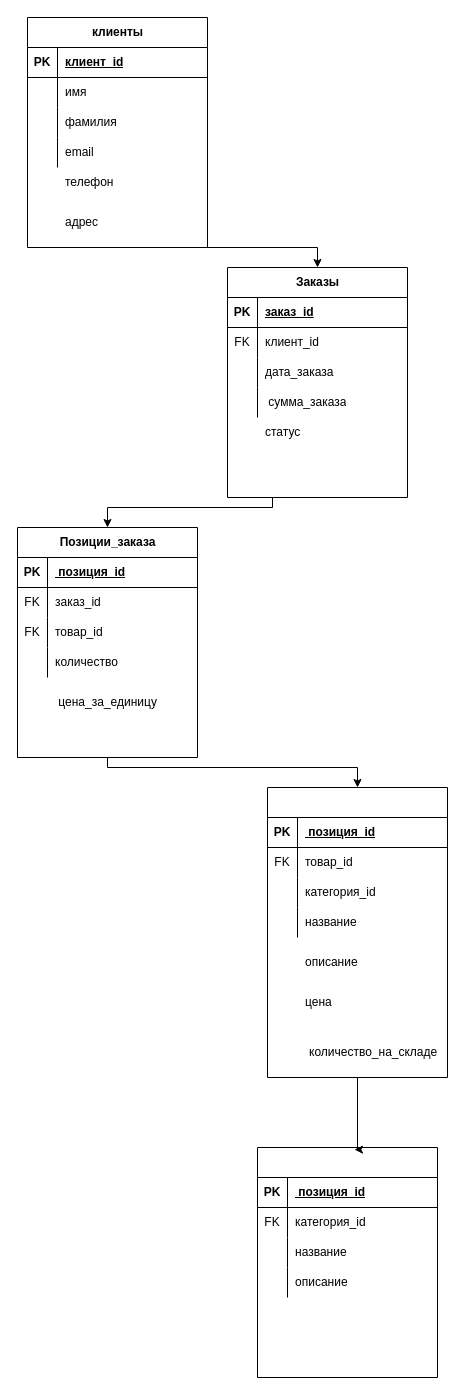
Image size: 469x1395. Some labels were removed from this diagram. Here are the shapes that lost their labels. From the top down, the box of each, then its label:
(266, 786, 448, 1078): Товары
(256, 1146, 438, 1378): Категории
